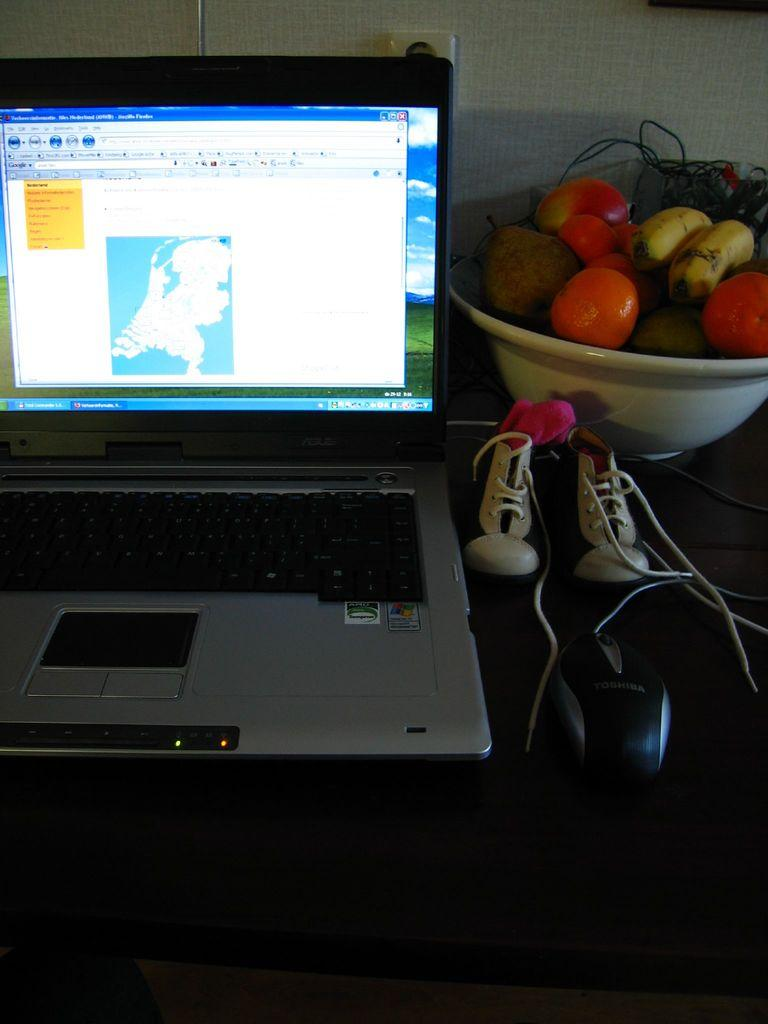Computer-keyboard: (0, 488, 426, 600)
